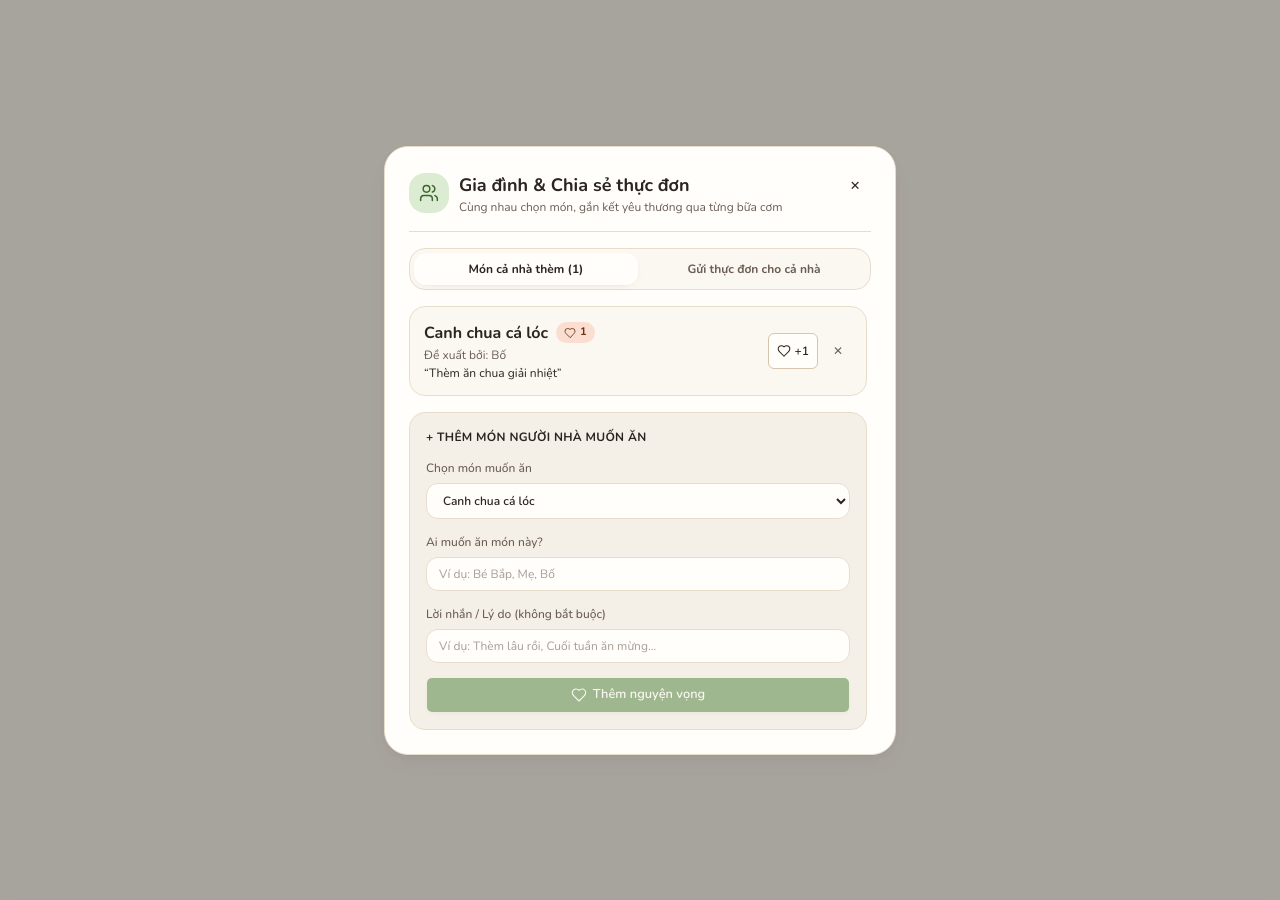
it: FamilyCollaborationModal › allows adding a new family wish and upvoting
// Upvote the existing wish
Click the button named "Thả tim món Canh chua cá lóc".
click(793, 350)  # box x1=768 y1=332 x2=818 y2=368
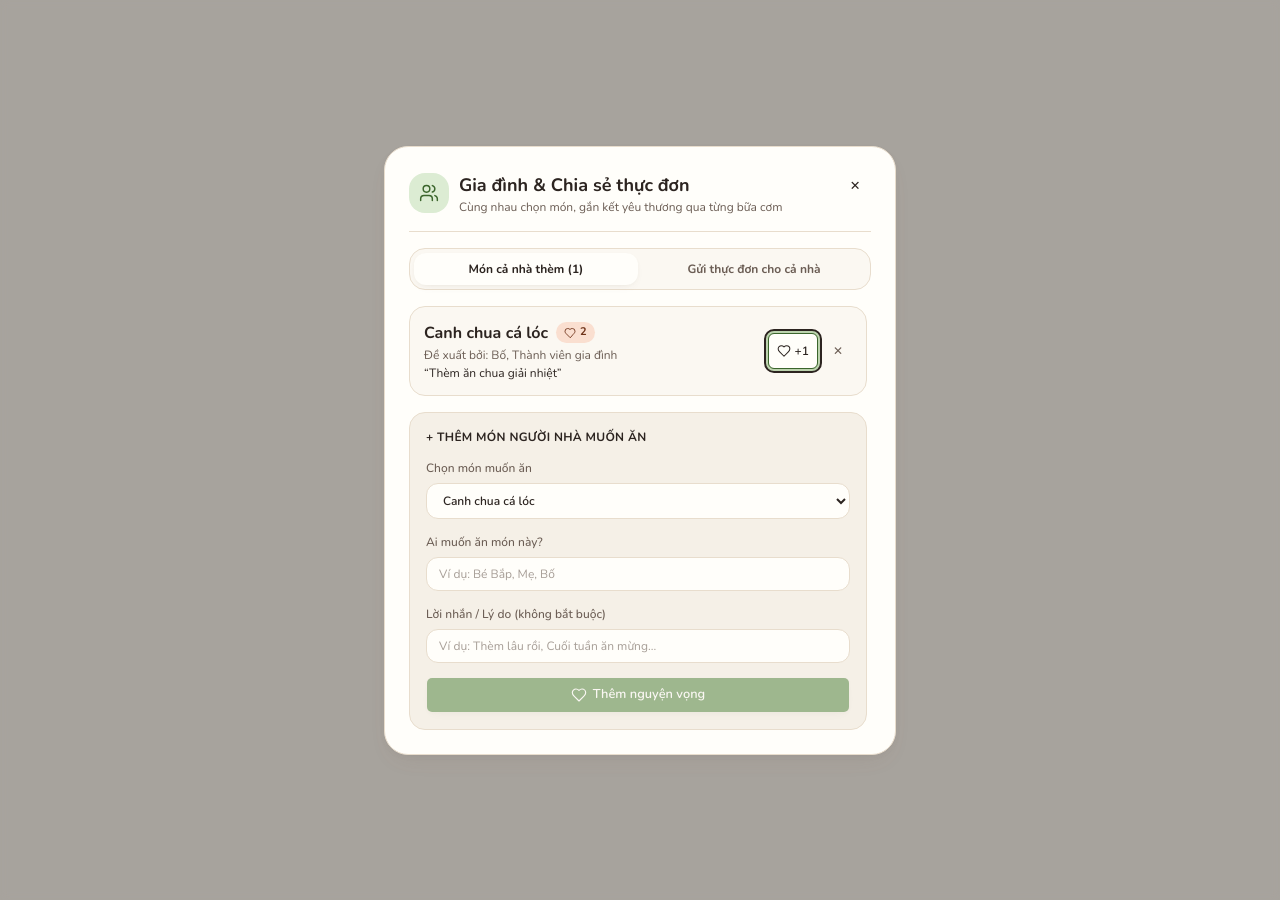
Expected: the text "2" is shown, x1=556 y1=322 x2=595 y2=343
// Fill the add wish form
Select "Bò sốt vang" in the dropdown labelled "Chọn món muốn ăn" at (638, 500), box x1=426 y1=482 x2=850 y2=518
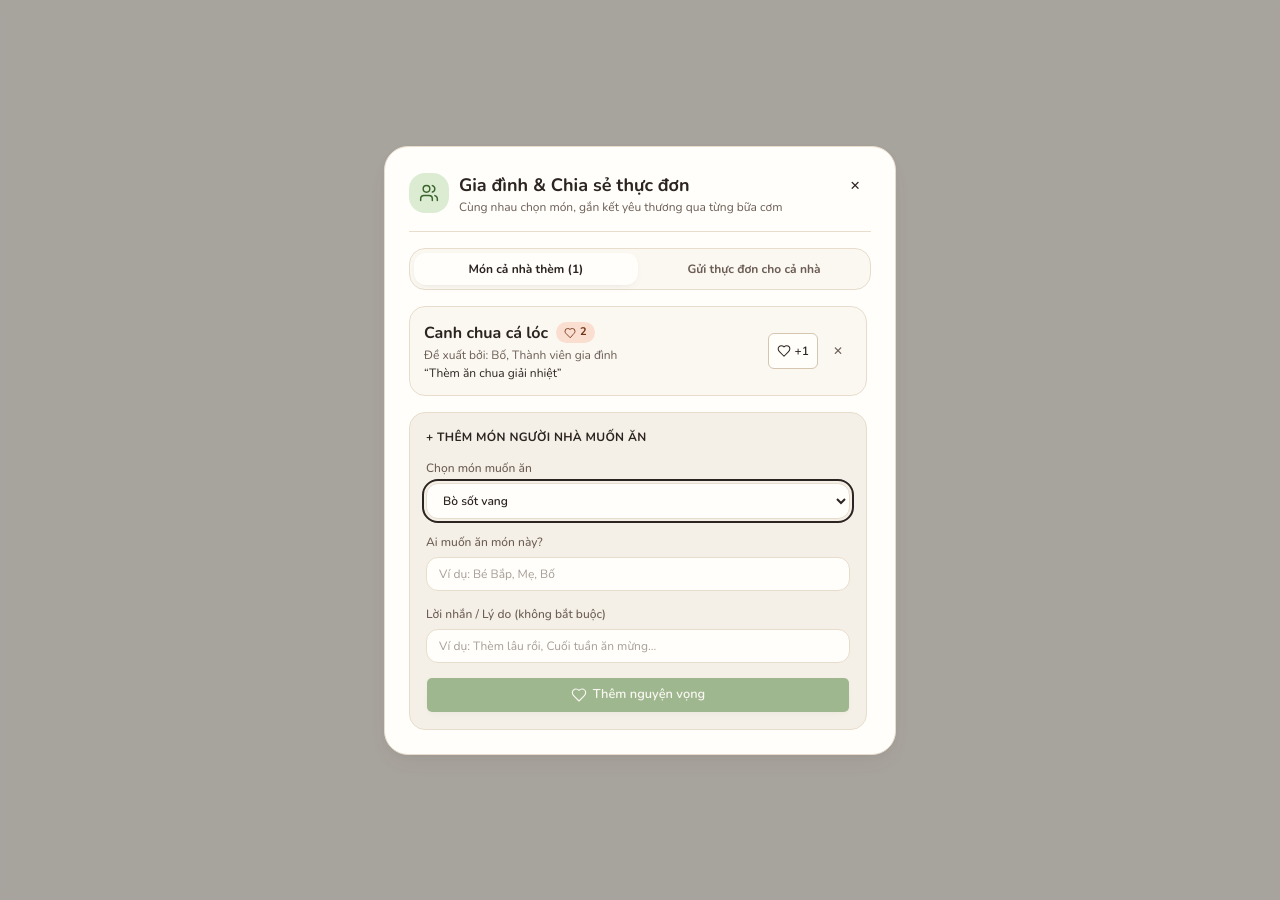
Type "Bé Bắp" into the field with placeholder "Ví dụ: Bé Bắp, Mẹ, Bố".
click(638, 574); type("Bé Bắp")  # box x1=426 y1=556 x2=850 y2=590
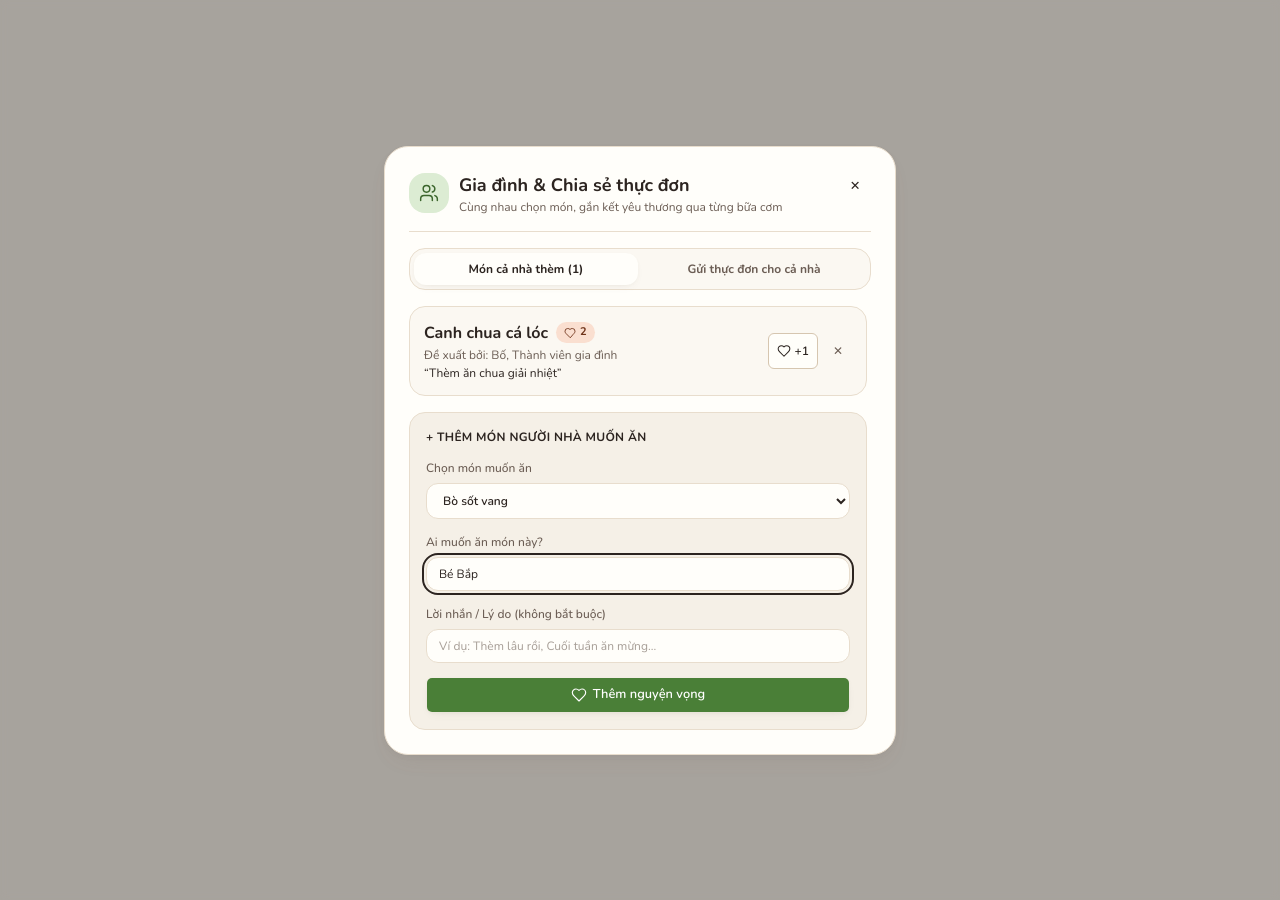
Click the button "Thêm nguyện vọng".
click(638, 694)  # box x1=426 y1=676 x2=850 y2=712
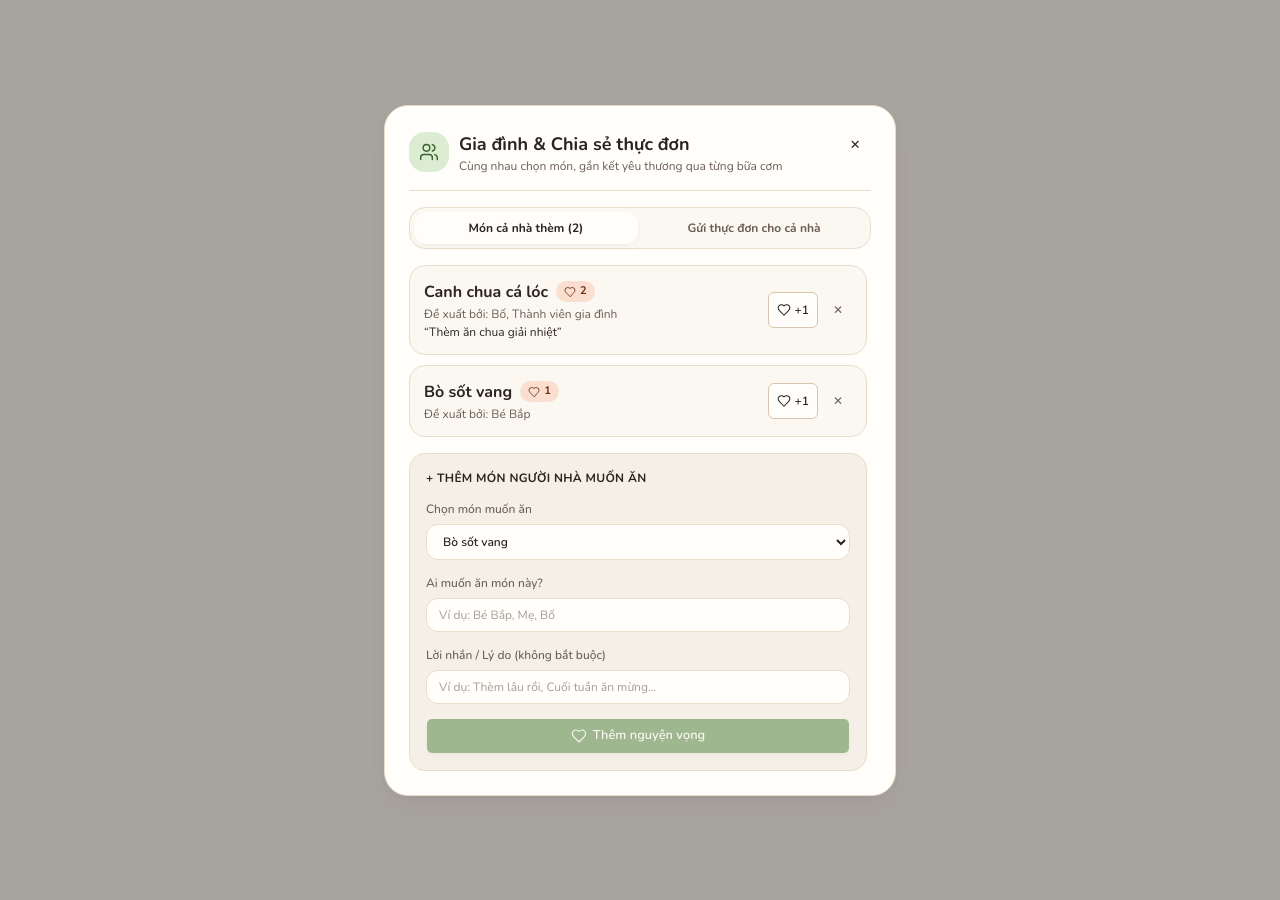
Result: the text "Đề xuất bởi: Bé Bắp" is shown at x1=424 y1=406 x2=530 y2=422
